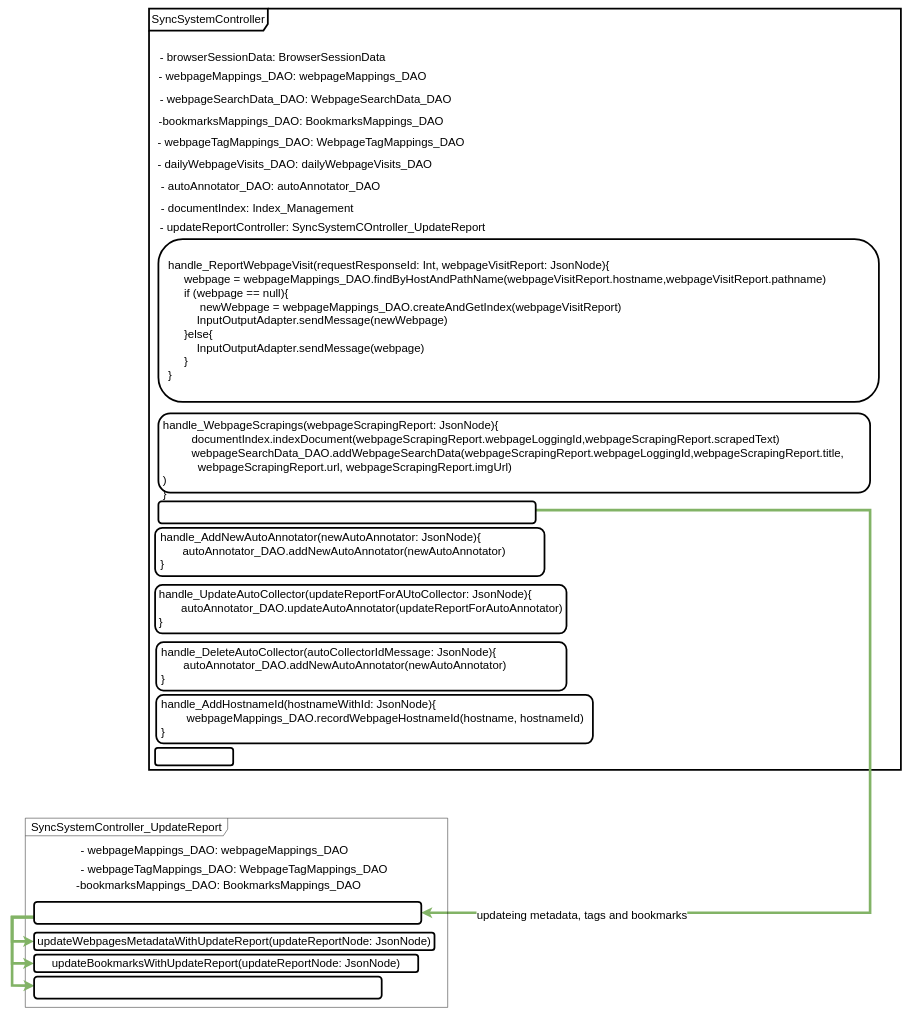
This 909x1015 diagram has some shape labels left out. Each missing label, with the centre of its shape:
cleanUp(): (x=194, y=756)
handle_UpdateReport(updateReportType: String, updateReport: JsonNode): (x=227, y=912)
handle_UpdateReport(updates:JsonNode): (x=346, y=512)
updateTagsWithUpdateReport(updateReportNode:JsonNode): (x=207, y=987)
